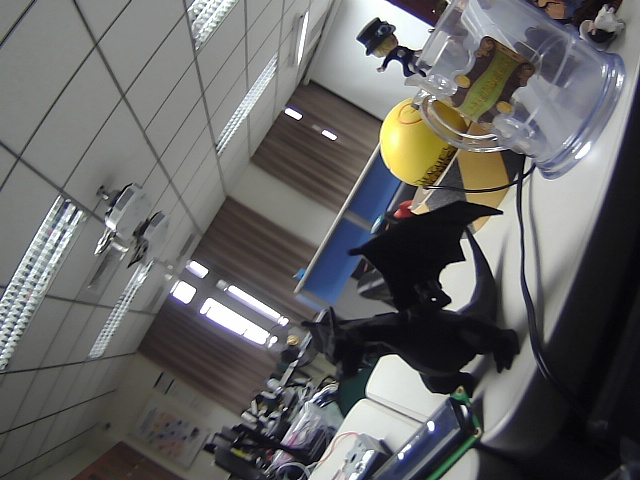charizard: (264, 191, 560, 416)
